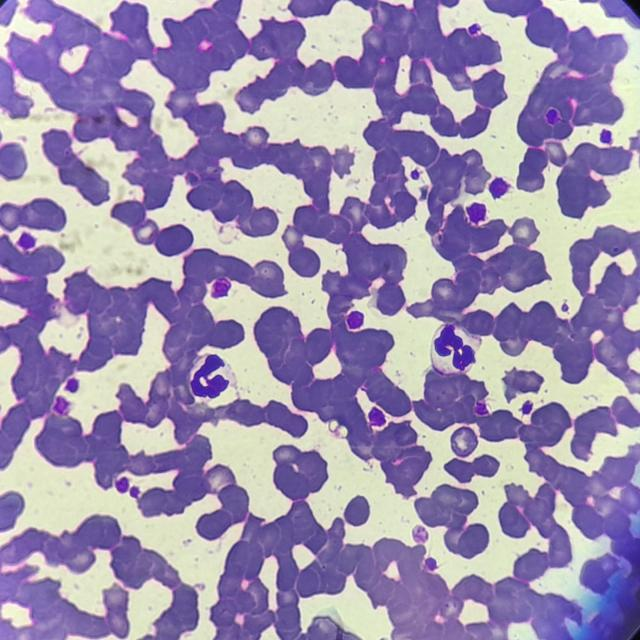Neutrofilo: (429, 316, 482, 379), (191, 352, 240, 410)
